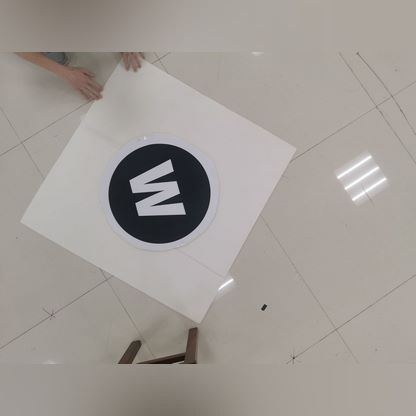W: (90, 135, 213, 253)
